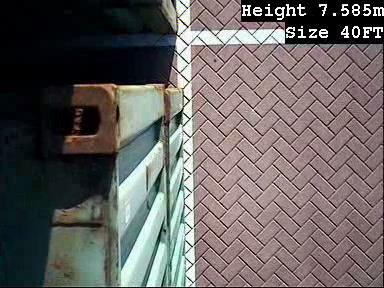groundmarker_2: (3, 30, 115, 99)
